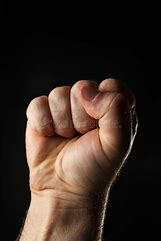closed: (23, 77, 139, 197)
